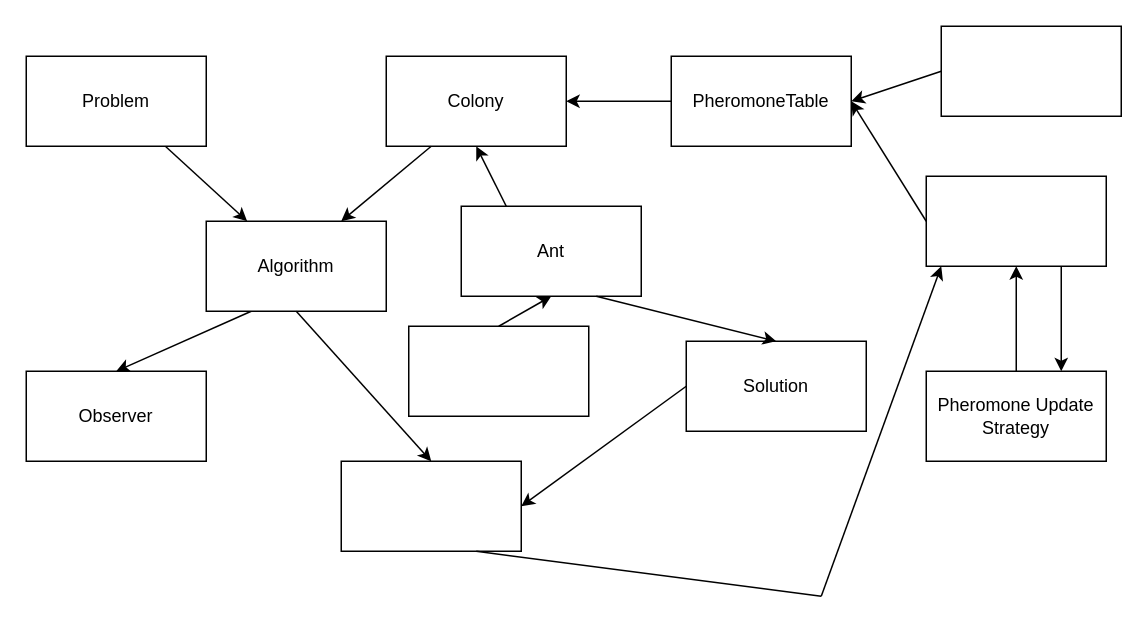
The diagram is 1148 pixels wide and 635 high, and some of its shapes have lost their labels. The shapes that lost their labels are listed below. From the top down, each one's box as (x1, y1, x2, y2) in pixels, then its label:
(940, 25, 1121, 116): Pheromone Agrregation
(925, 175, 1106, 266): Pheromone
(407, 325, 589, 416): Decision Algorithm
(340, 460, 521, 551): Solution Repo
